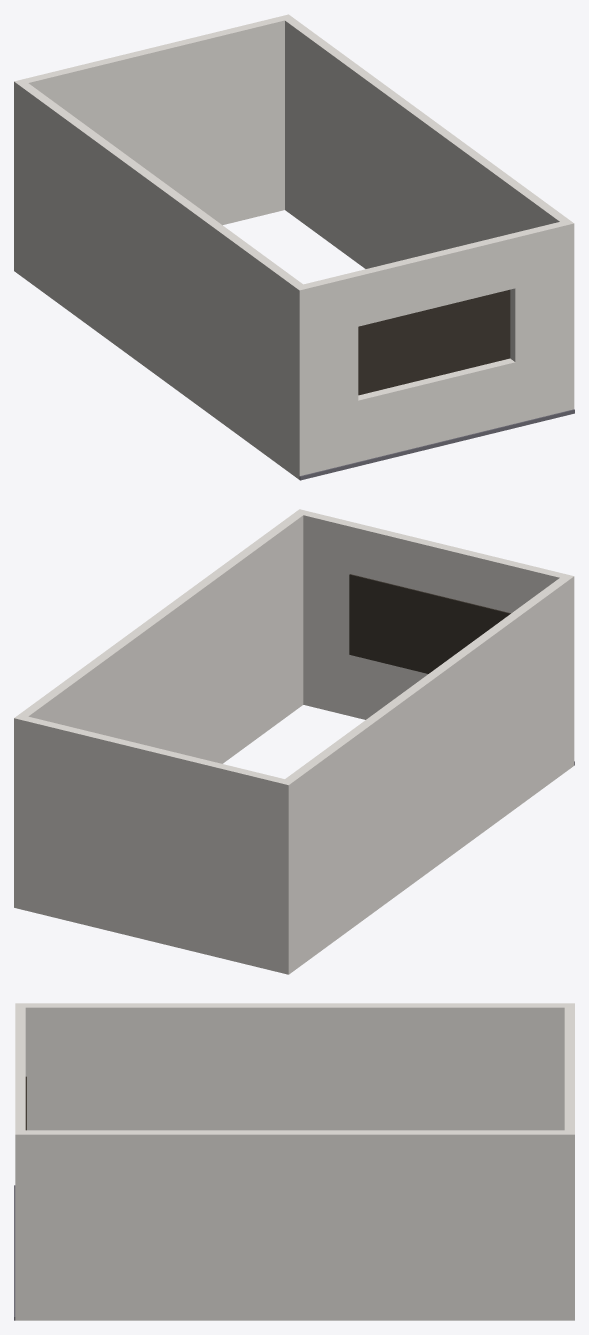
File: SM_Floor_NarrowUpperWindow_White_455_01.gltf
3 renders of one model, top to bottom at view 1: azimuth 30°, elevation 25°; view 2: azimuth 150°, elevation 25°; view 3: azimuth 270°, elevation 25°, orthographic. The views are drawn at different scales.
Visible parts, largest first — view 1: SM_Floor_NarrowUpperWindow_White_455_01; view 2: SM_Floor_NarrowUpperWindow_White_455_01; view 3: SM_Floor_NarrowUpperWindow_White_455_01.
Part boxes in pixels (x1,y1,x2,y2): SM_Floor_NarrowUpperWindow_White_455_01: (14, 14, 574, 480); SM_Floor_NarrowUpperWindow_White_455_01: (14, 509, 574, 974); SM_Floor_NarrowUpperWindow_White_455_01: (14, 1003, 574, 1320).
Size of the model in its own units: 4.55 by 3 by 8.21.
Materials: 1 (1 with a texture image).
